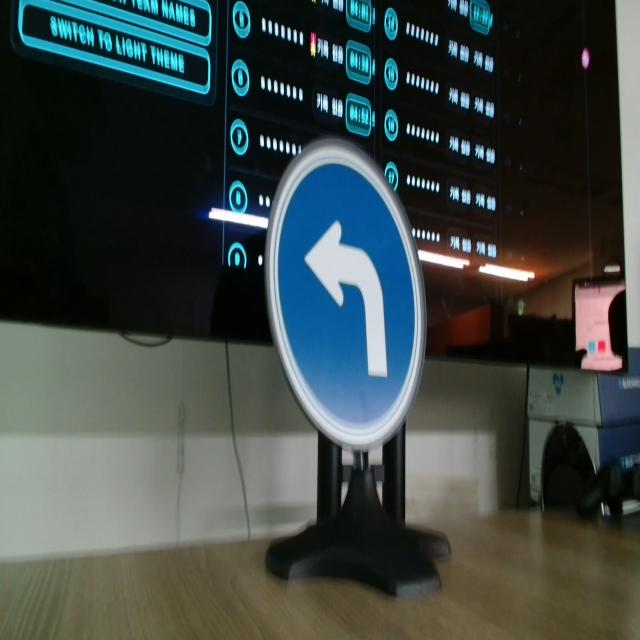left_direction: (253, 130, 429, 510)
